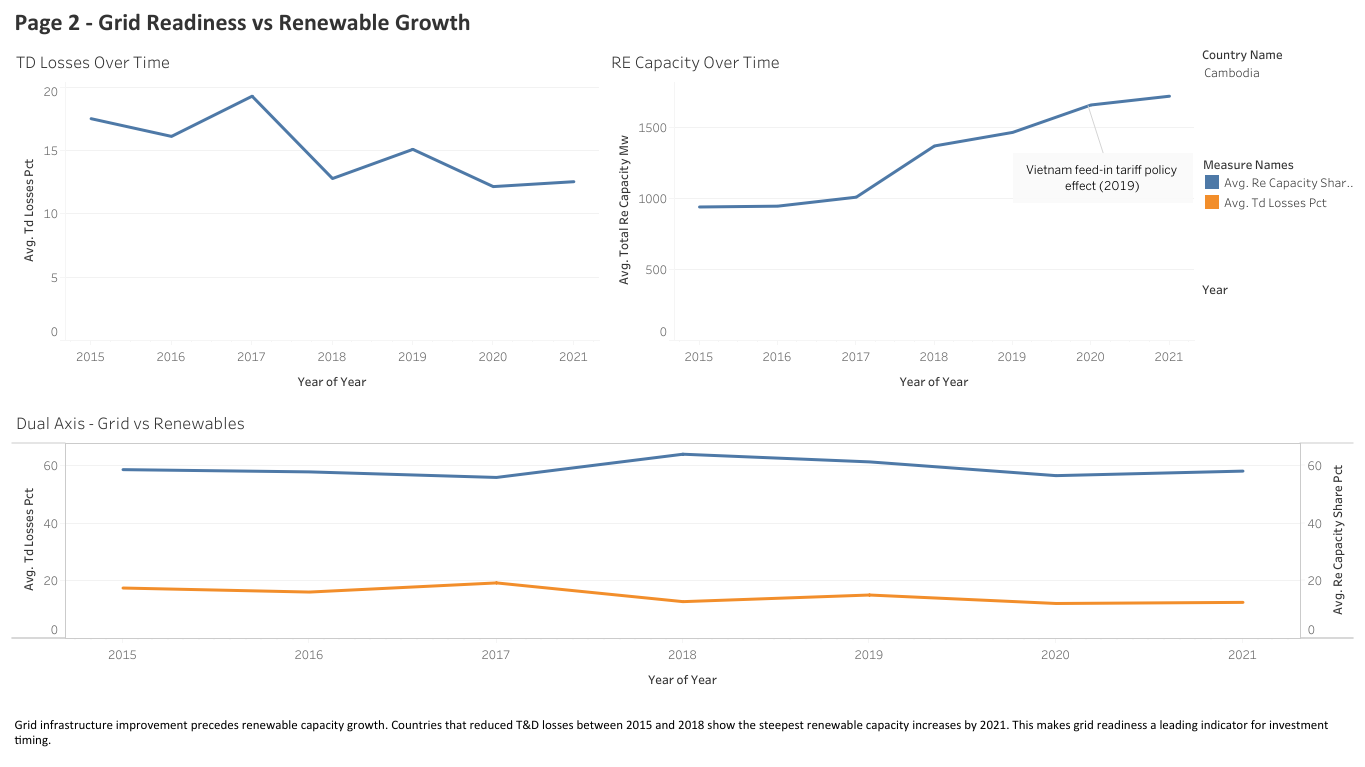

The page's visual inventory and layout, read from the dashboard file:
{"tool":"tableau","page":{"name":"Page 2 - Grid Readiness vs Renewable Growth","canvas":[1566,868],"ordinal":1},"visuals":[{"type":"title","box":[8,8,1550,52]},{"type":"worksheet","title":"TD Losses Over Time","mark":"Automatic","rows":["td_losses_pct"],"cols":["year"],"box":[8,60,677,401.6]},{"type":"worksheet","title":"RE Capacity Over Time","mark":"Automatic","rows":["total_re_capacity_mw"],"cols":["year"],"box":[685,60,697,401.6]},{"type":"filter","title":"Dual Axis - Grid vs Renewables","param":"[federated.1l65u290jg5pa210ox32x1x9fhdh].[none:country_name:nk]","box":[1382,60,176,109]},{"type":"legend","title":"Dual Axis - Grid vs Renewables","param":"[federated.1l65u290jg5pa210ox32x1x9fhdh].[:Measure Names]","box":[1382,169,176,129]},{"type":"filter","title":"Dual Axis - Grid vs Renewables","param":"[federated.1l65u290jg5pa210ox32x1x9fhdh].[none:year:qk]","box":[1382,298,176,136]},{"type":"worksheet","title":"Dual Axis - Grid vs Renewables","mark":"Automatic","rows":["td_losses_pct","re_capacity_share_pct"],"cols":["year"],"box":[8,461.6,1550,331.8]},{"type":"text","box":[8,793.5,1550,66.5]}]}

Visuals, with their boxes in screenshot pixels (x1, y1, x2, y2), scaled from the page's 1566x868 canvas onto the 1365x767 screenshot:
title: left=7, top=7, right=1358, bottom=53
"TD Losses Over Time" worksheet: left=7, top=53, right=597, bottom=408
"RE Capacity Over Time" worksheet: left=597, top=53, right=1205, bottom=408
"Dual Axis - Grid vs Renewables" filter: left=1205, top=53, right=1358, bottom=149
"Dual Axis - Grid vs Renewables" legend: left=1205, top=149, right=1358, bottom=263
"Dual Axis - Grid vs Renewables" filter: left=1205, top=263, right=1358, bottom=384
"Dual Axis - Grid vs Renewables" worksheet: left=7, top=408, right=1358, bottom=701
text: left=7, top=701, right=1358, bottom=760
